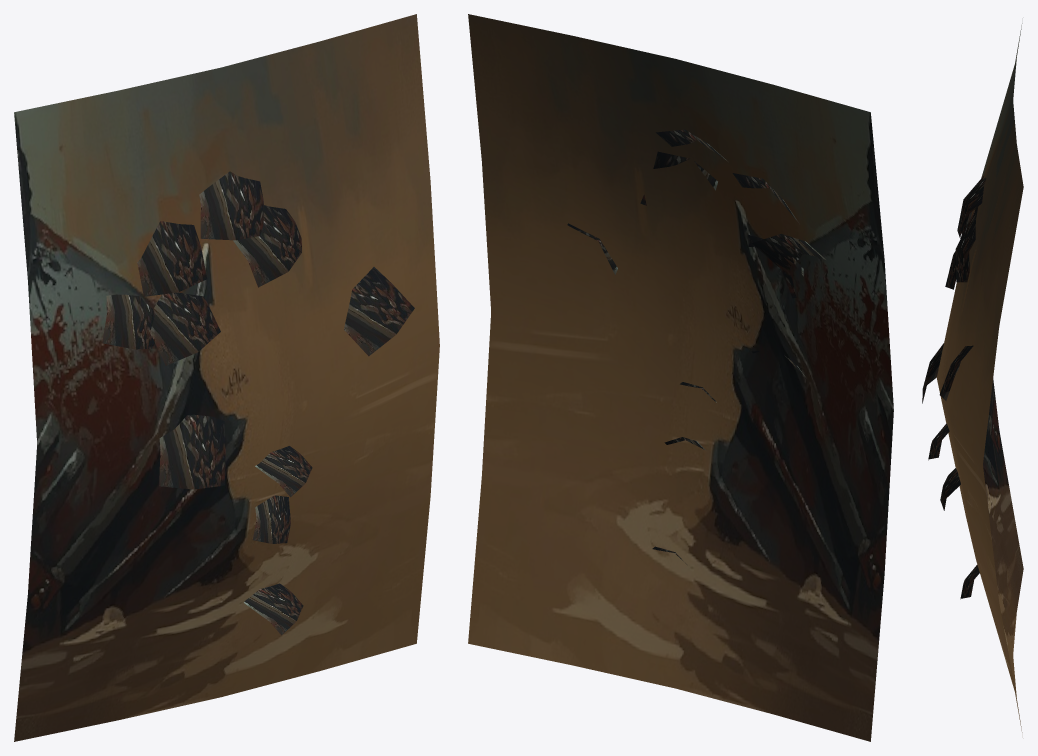
Rendered from Ivy_1.fbx.
3 views of the same model, side by side, from view 1: azimuth 30°, elevation 25°; view 2: azimuth 150°, elevation 25°; view 3: azimuth 270°, elevation 25° (orthographic). The views are drawn at different scales.
Visible parts, largest first — view 1: Ivy_1; view 2: Ivy_1; view 3: Ivy_1.
Part boxes in pixels (x1=…): Ivy_1: x1=14, y1=14, x2=439, y2=741; Ivy_1: x1=468, y1=14, x2=893, y2=741; Ivy_1: x1=922, y1=23, x2=1023, y2=732.
Size of the model in its own units: 1.03 by 1.54 by 0.2551.
